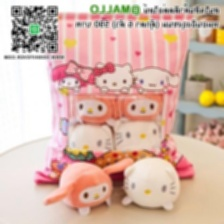snack: (27, 4, 205, 219)
